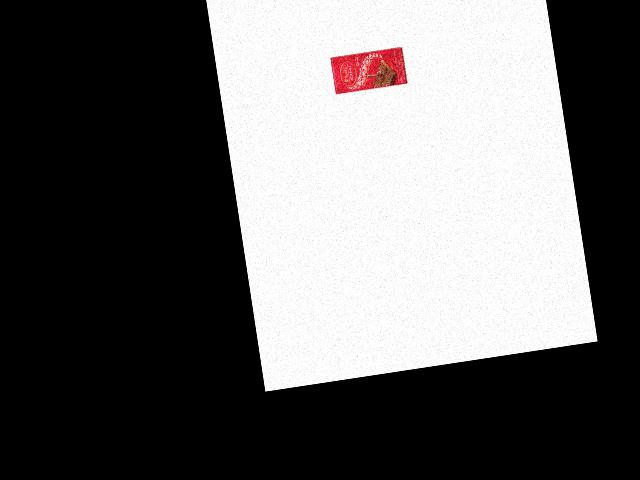chocolate: (330, 45, 407, 98)
